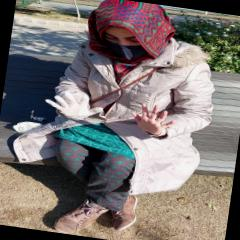gloved: (45, 90, 105, 122)
not-gloved: (128, 101, 176, 137)
